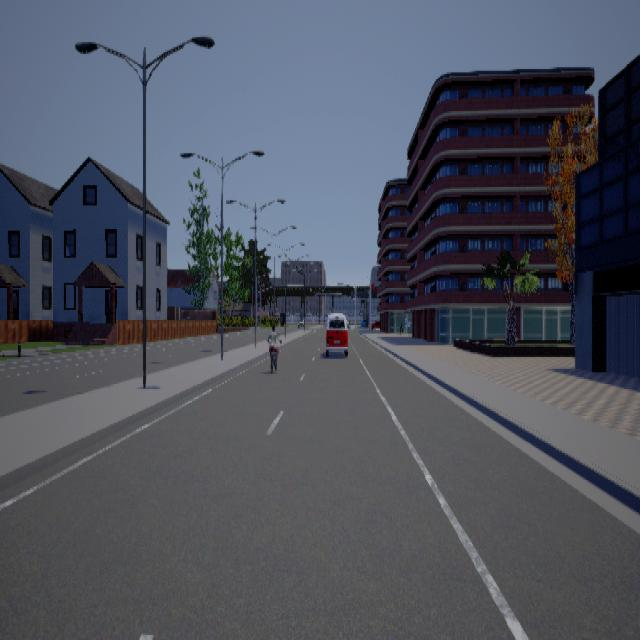bike: (264, 324, 283, 371)
vehicle: (324, 312, 351, 356)
